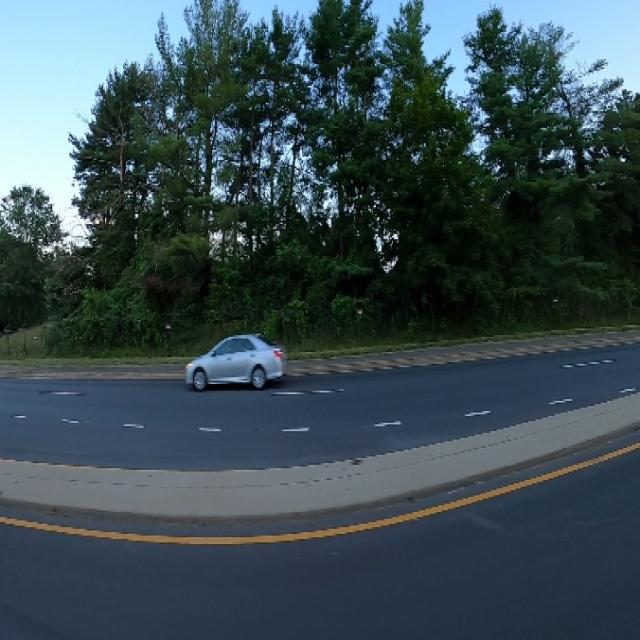cars: (182, 323, 289, 399)
